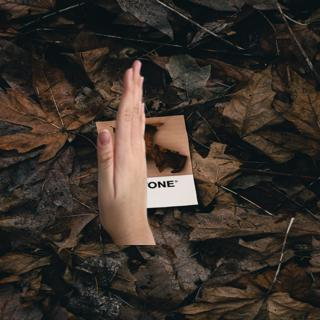Right: (91, 52, 173, 226)
